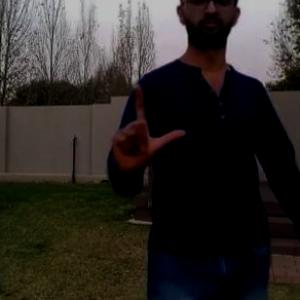land_hand: (102, 76, 190, 185)
